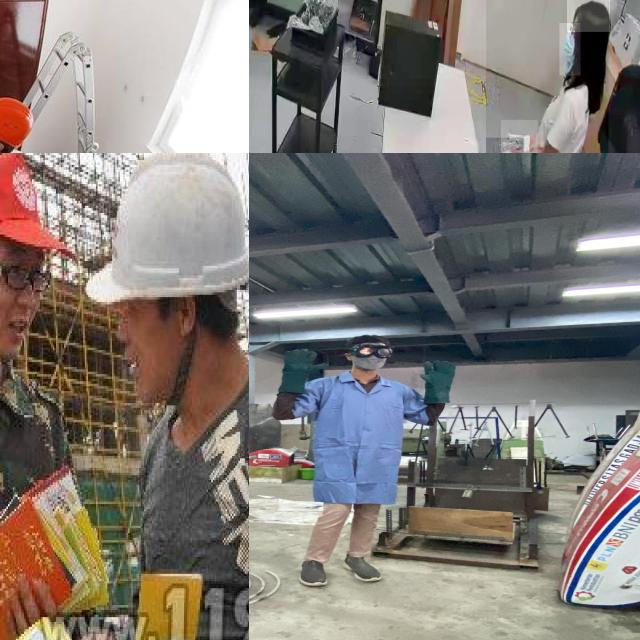No_Ear-Protection: (170, 293, 200, 340)
face_mask: (560, 23, 580, 75)
face_nomask: (102, 305, 165, 389), (0, 255, 56, 346)
glasses: (0, 260, 55, 298), (341, 340, 397, 360)
hand_glove: (273, 343, 333, 382), (412, 356, 469, 389), (500, 119, 537, 153), (486, 137, 523, 153)
head_helmet: (73, 153, 249, 308), (0, 91, 35, 152)
head_nohelmet: (0, 154, 79, 254), (567, 0, 611, 33), (344, 330, 394, 351)
person: (43, 153, 249, 640), (254, 329, 468, 595), (0, 155, 88, 640), (486, 0, 609, 153)
shoes: (288, 552, 338, 592), (334, 552, 388, 585)
